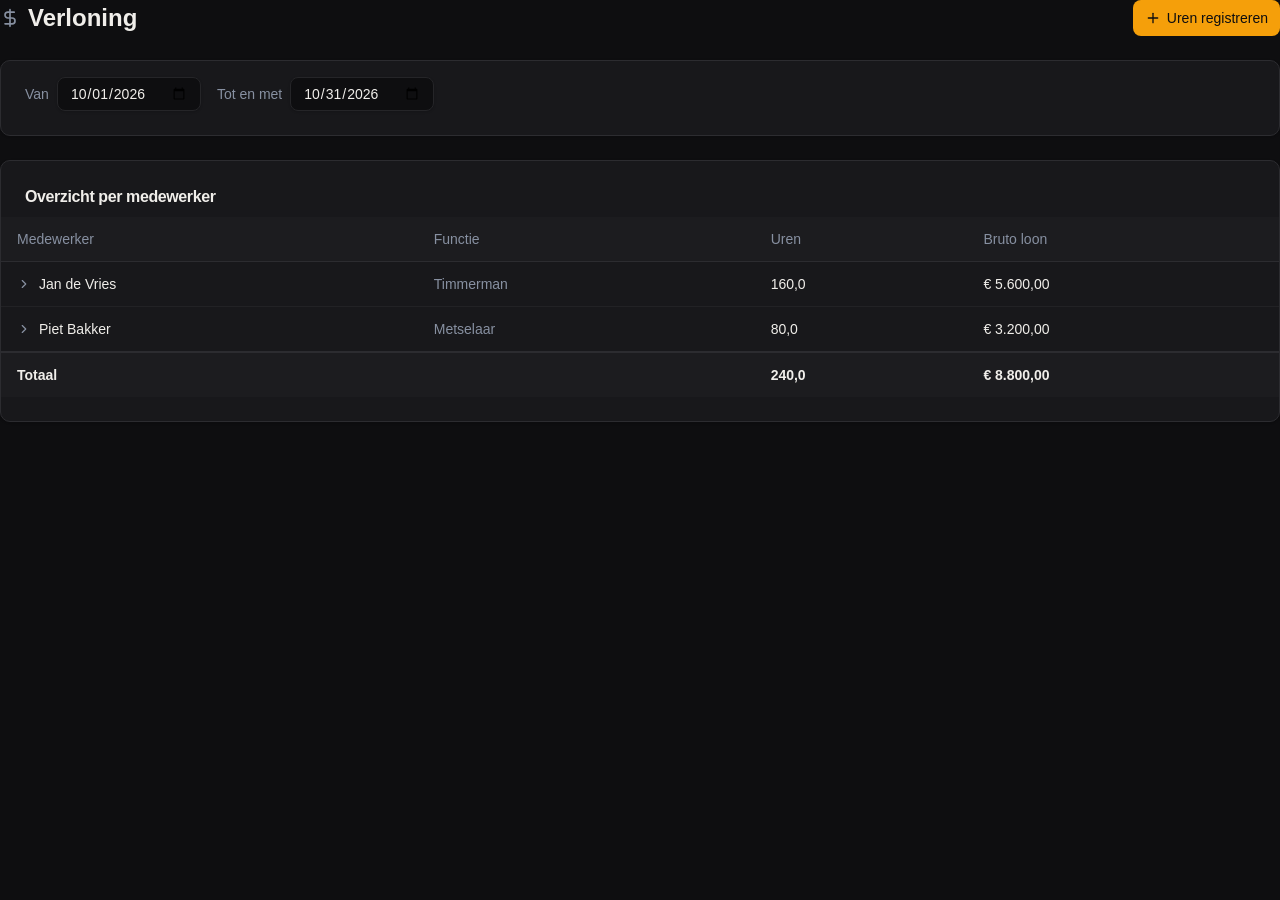
Test: PayrollOverviewPage — log hours modal › opens Uren registreren modal when button clicked
This screenshot has width=1280, height=900.
Expected: the text "Jan de Vries" is shown, [39, 274, 116, 294]
Click the button "Uren registreren": x=1206, y=18 [1133, 0, 1279, 36]
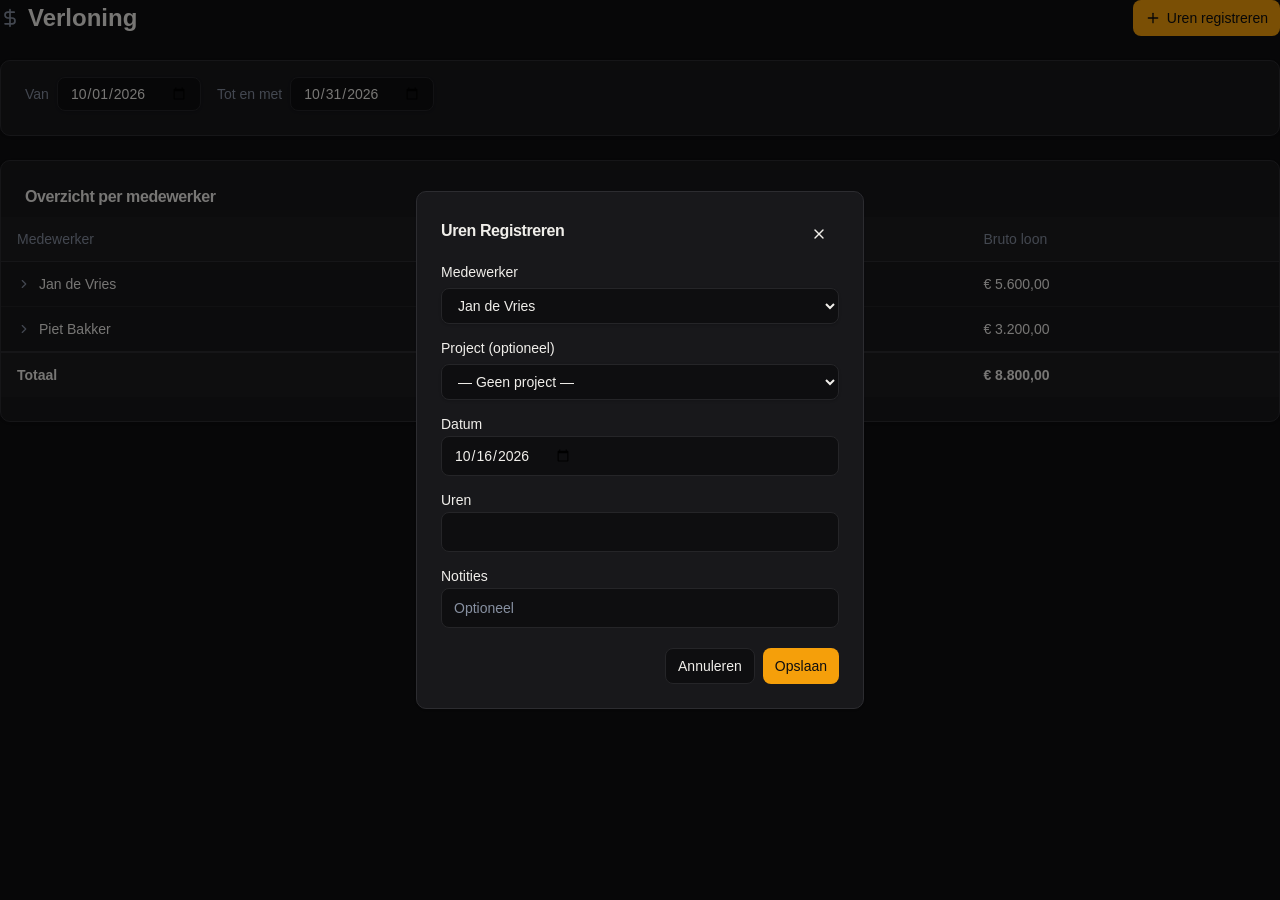
Now the dialog is shown
